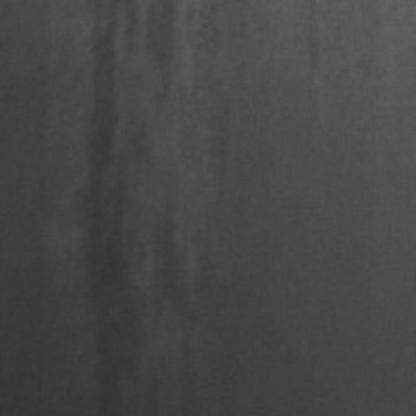inclusion: (79, 0, 189, 408)
